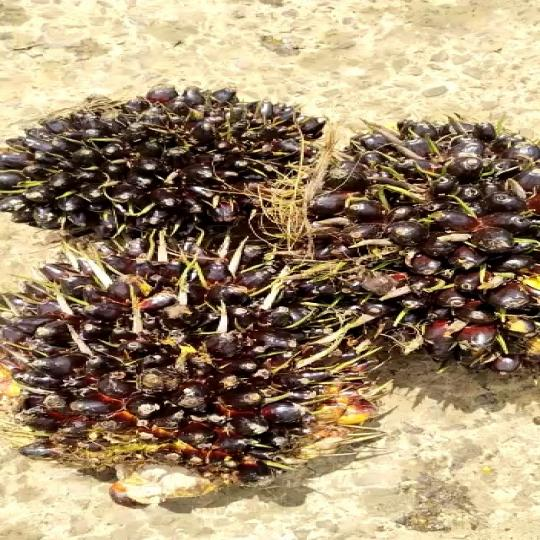mentah: (0, 237, 408, 508), (4, 78, 328, 243), (338, 117, 540, 377)
